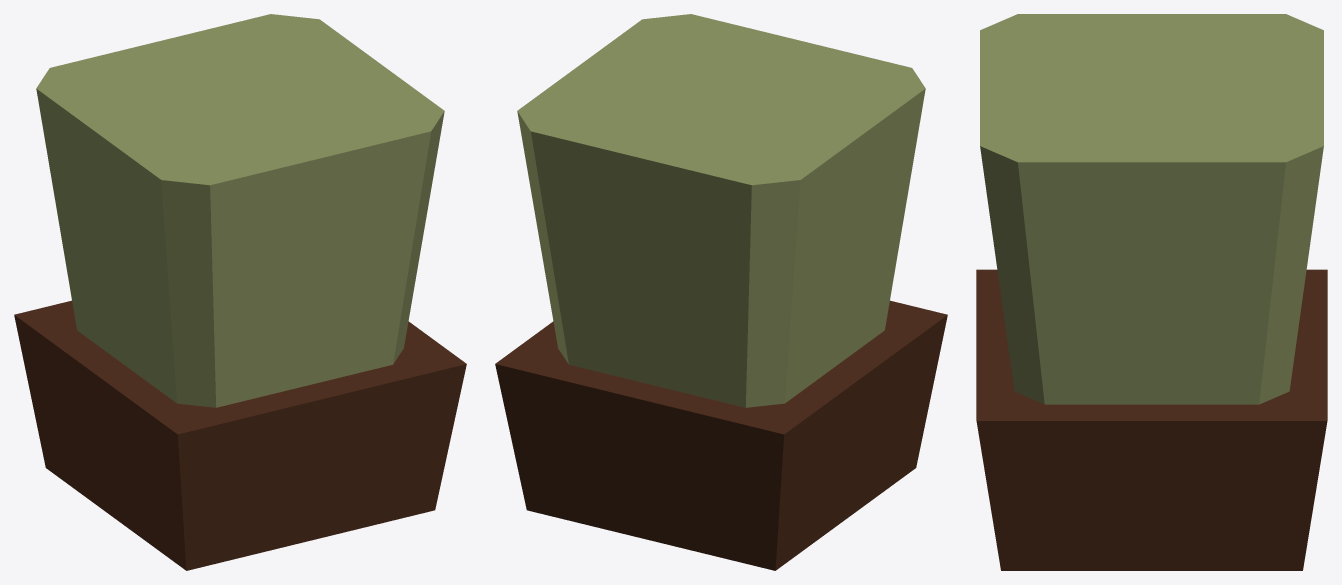
File: pc_engineer_lower_leg.fbx
The picture shows the model from 3 angles, left to right: view 1: azimuth 30°, elevation 25°; view 2: azimuth 150°, elevation 25°; view 3: azimuth 270°, elevation 25°; orthographic projection. The views are drawn at different scales.
Parts seen in each view (by area): view 1: pc_engineer_lower_leg; view 2: pc_engineer_lower_leg; view 3: pc_engineer_lower_leg.
Boxes of the visible parts, x1=… form: pc_engineer_lower_leg: x1=14, y1=14, x2=466, y2=570; pc_engineer_lower_leg: x1=495, y1=14, x2=947, y2=570; pc_engineer_lower_leg: x1=976, y1=14, x2=1327, y2=570.
Bounding box in the file's own units: 101 × 130 × 99.
